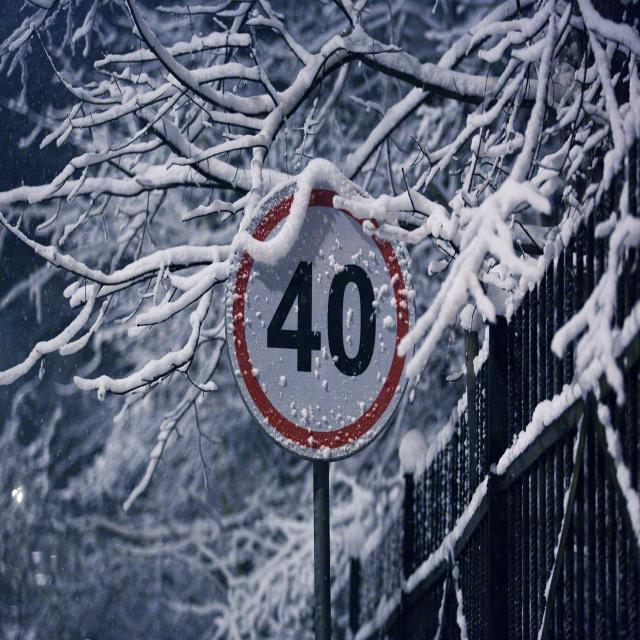speed limit 40: (227, 190, 424, 465)
